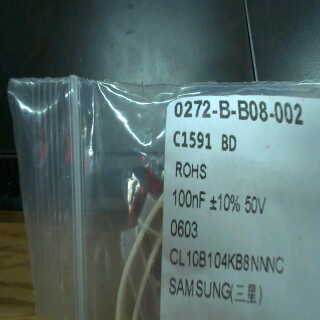100nF: (170, 187, 208, 208)
